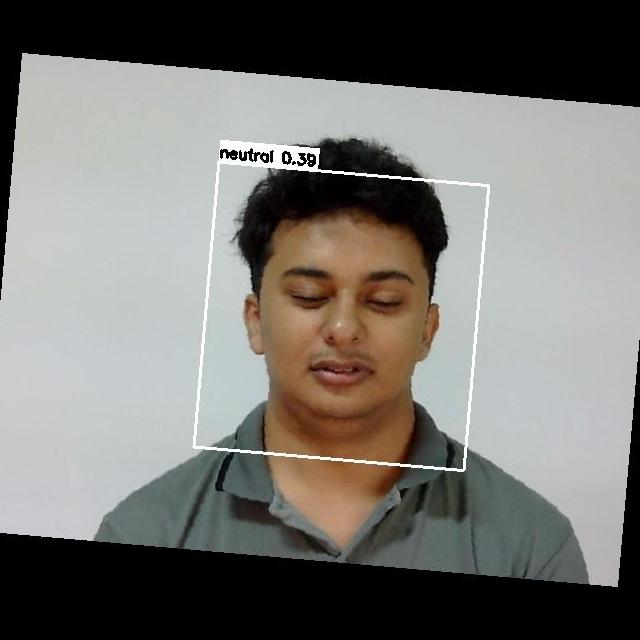Sad: (256, 235, 448, 411)
